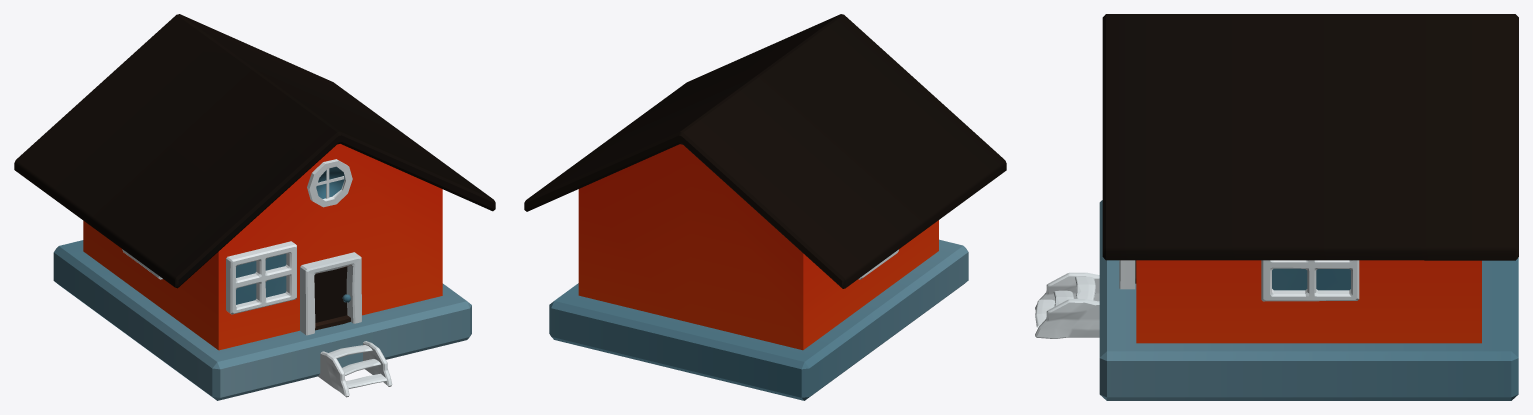
File: HouseSmall.fbx
3 renders of one model, left to right at view 1: azimuth 30°, elevation 25°; view 2: azimuth 150°, elevation 25°; view 3: azimuth 270°, elevation 25°, orthographic. The views are drawn at different scales.
Parts seen in each view (by area): view 1: HouseSmall_LOD0; view 2: HouseSmall_LOD0; view 3: HouseSmall_LOD0.
Boxes of the visible parts, x1,y1,x2,y2 form: HouseSmall_LOD0: (14, 14, 495, 400); HouseSmall_LOD0: (524, 14, 1006, 400); HouseSmall_LOD0: (1035, 14, 1518, 400).
Size of what is drawn, in the model's own units: 424 by 304 by 434.
